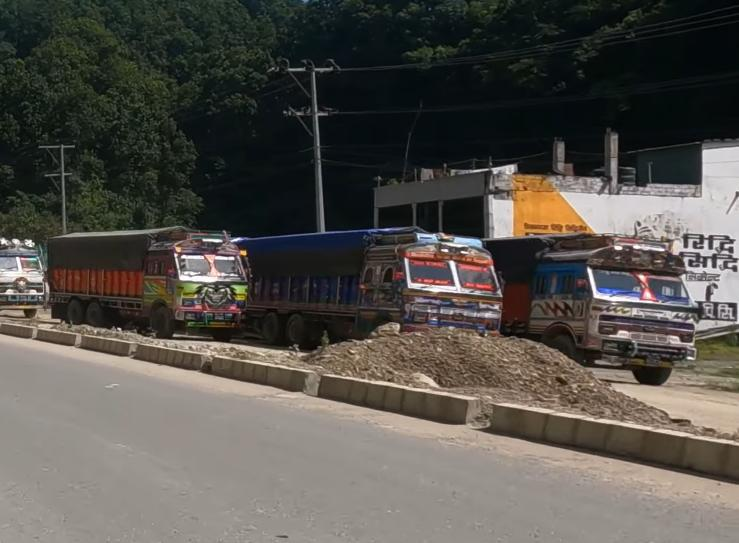truck: (229, 212, 504, 350), (498, 231, 703, 385), (42, 223, 250, 342), (0, 236, 48, 318)
